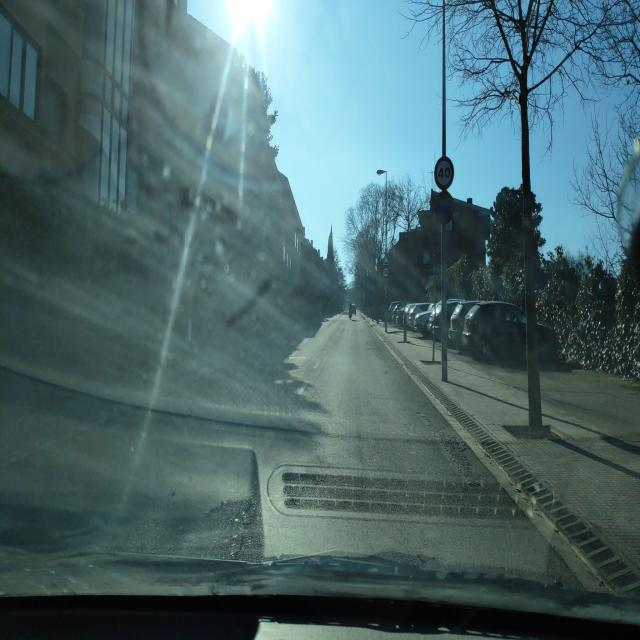forb_stopping: (434, 193, 453, 225)
